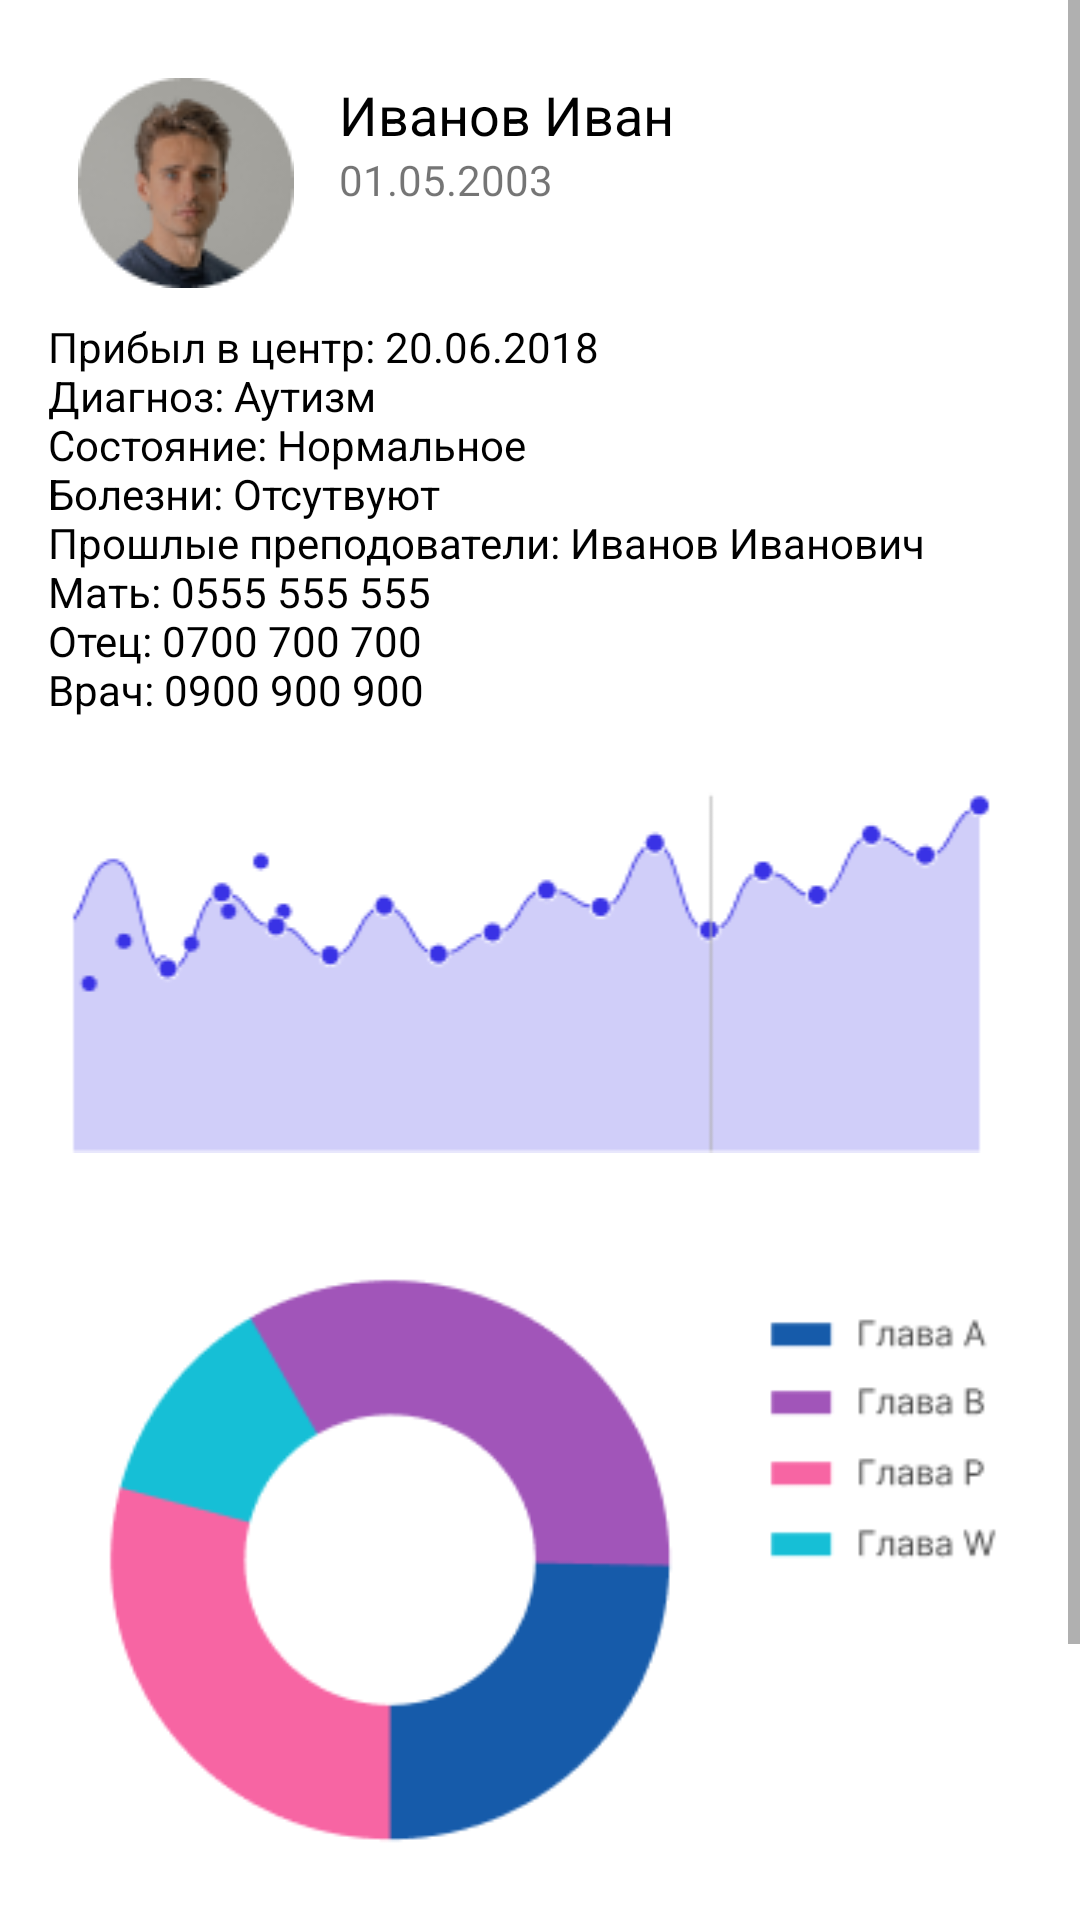

Screen size 1080px×1920px. Icon name, then its center in pixels as (x=x, y=y):
acc: (x=186, y=183)
